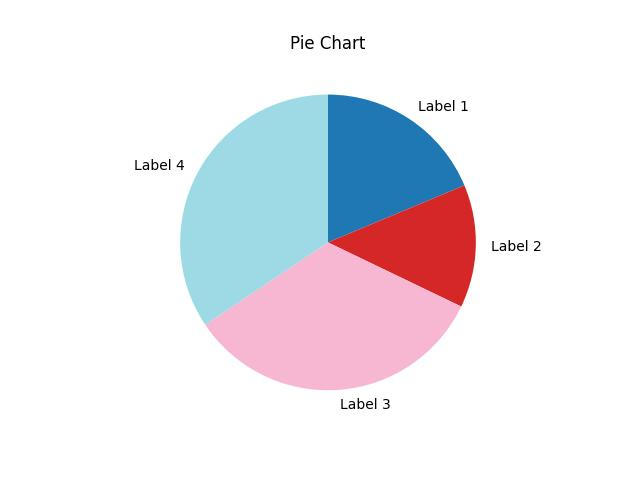sector: (201, 243, 463, 391), (178, 93, 329, 327), (326, 94, 465, 244), (331, 187, 478, 308)
